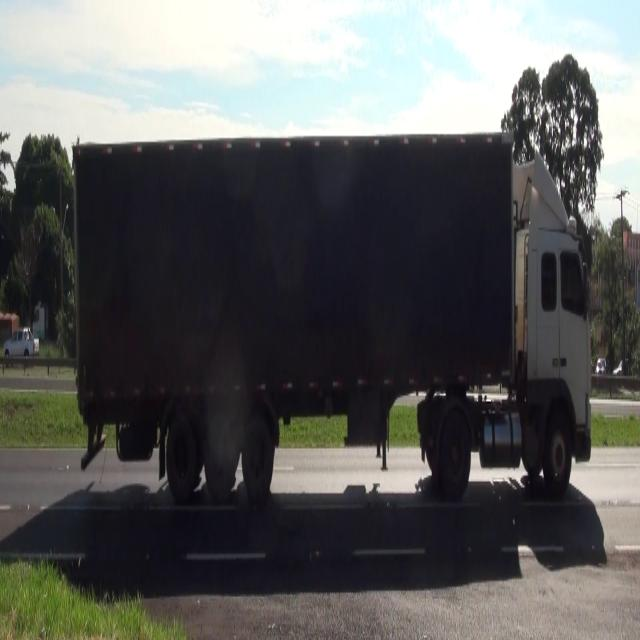-axle: (165, 411, 199, 512), (241, 410, 274, 507), (542, 402, 575, 498), (204, 408, 237, 503), (440, 414, 472, 493)
